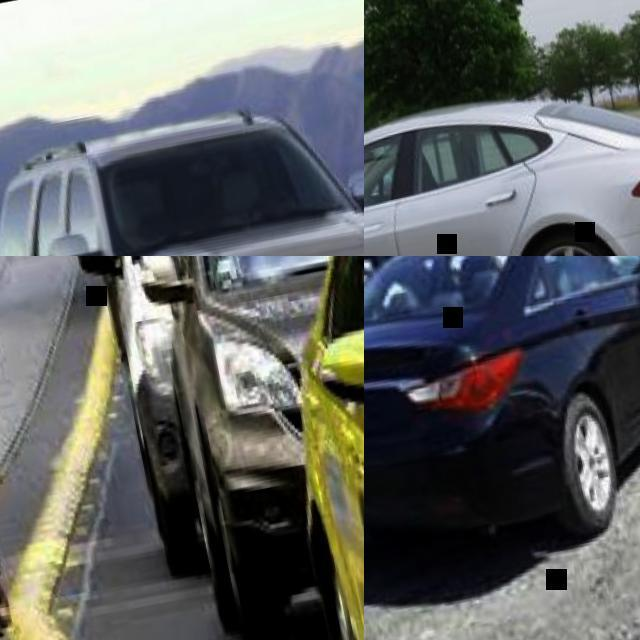car: (360, 97, 639, 533)
